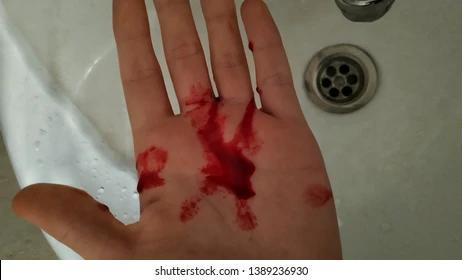Fire: (180, 84, 260, 230), (137, 146, 168, 192), (305, 185, 333, 207), (249, 41, 254, 52), (257, 87, 261, 94)
